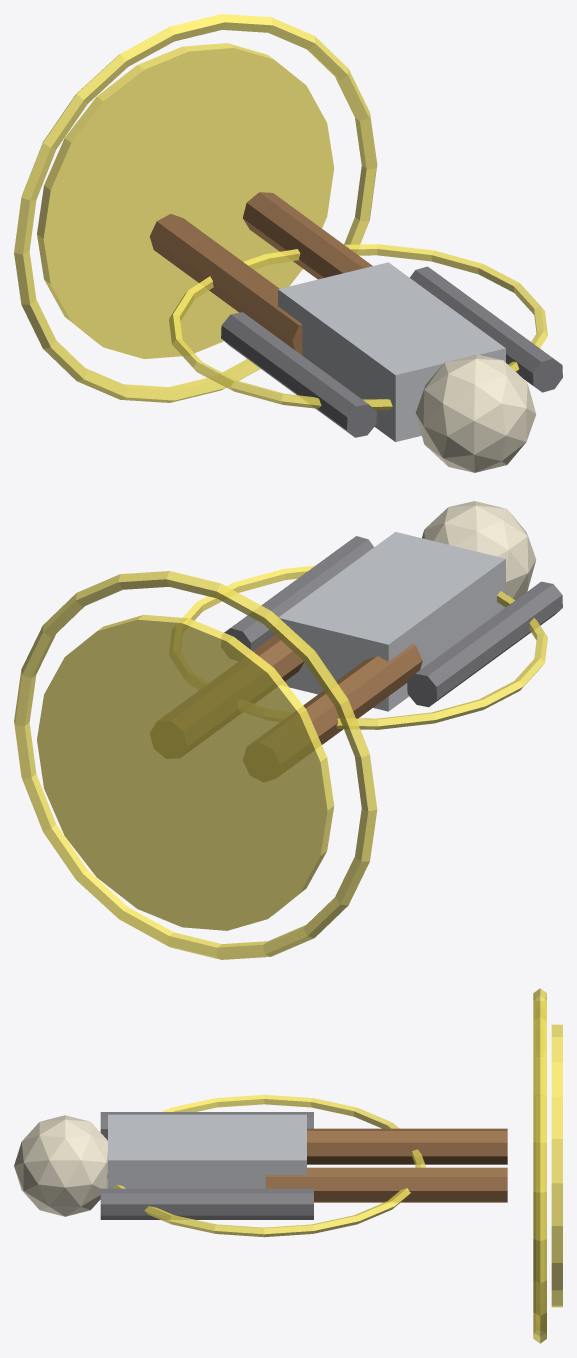
File: biped_run_pose_b.glb
3 views of the same model, one above another, from view 1: azimuth 30°, elevation 25°; view 2: azimuth 150°, elevation 25°; view 3: azimuth 270°, elevation 25° (orthographic). The views are drawn at different scales.
Parts seen in each view (by area): view 1: marker_disc, torso, marker_ring, head, left_leg, motion_arc, left_arm, right_leg, right_arm; view 2: marker_disc, torso, marker_ring, left_arm, head, motion_arc, left_leg, right_arm, right_leg; view 3: torso, right_leg, head, left_leg, right_arm, motion_arc, marker_ring, marker_disc, left_arm.
Boxes of the visible parts, box(x1,y1,x2,y2) form: marker_disc: box(37, 43, 334, 359); torso: box(278, 262, 505, 441); marker_ring: box(14, 14, 377, 402); head: box(415, 354, 536, 472); left_leg: box(149, 214, 302, 355); motion_arc: box(169, 244, 547, 410); left_arm: box(221, 312, 376, 437); right_leg: box(243, 192, 372, 279); right_arm: box(410, 266, 562, 392); marker_disc: box(37, 614, 334, 930); torso: box(278, 532, 505, 711); marker_ring: box(14, 571, 377, 959); left_arm: box(407, 581, 562, 707); head: box(422, 501, 536, 600); motion_arc: box(183, 565, 547, 729); left_leg: box(303, 644, 422, 744); right_arm: box(224, 536, 373, 651); right_leg: box(253, 635, 304, 681); torso: box(108, 1114, 306, 1188); right_leg: box(265, 1167, 507, 1202); head: box(14, 1115, 107, 1216); left_leg: box(307, 1128, 507, 1164); right_arm: box(100, 1188, 313, 1219); motion_arc: box(106, 1094, 425, 1237); marker_ring: box(533, 988, 546, 1343); marker_disc: box(551, 1024, 562, 1307); left_arm: box(100, 1112, 313, 1140).
Bounding box in the file's own units: 1.25 × 1.24 × 1.93.
